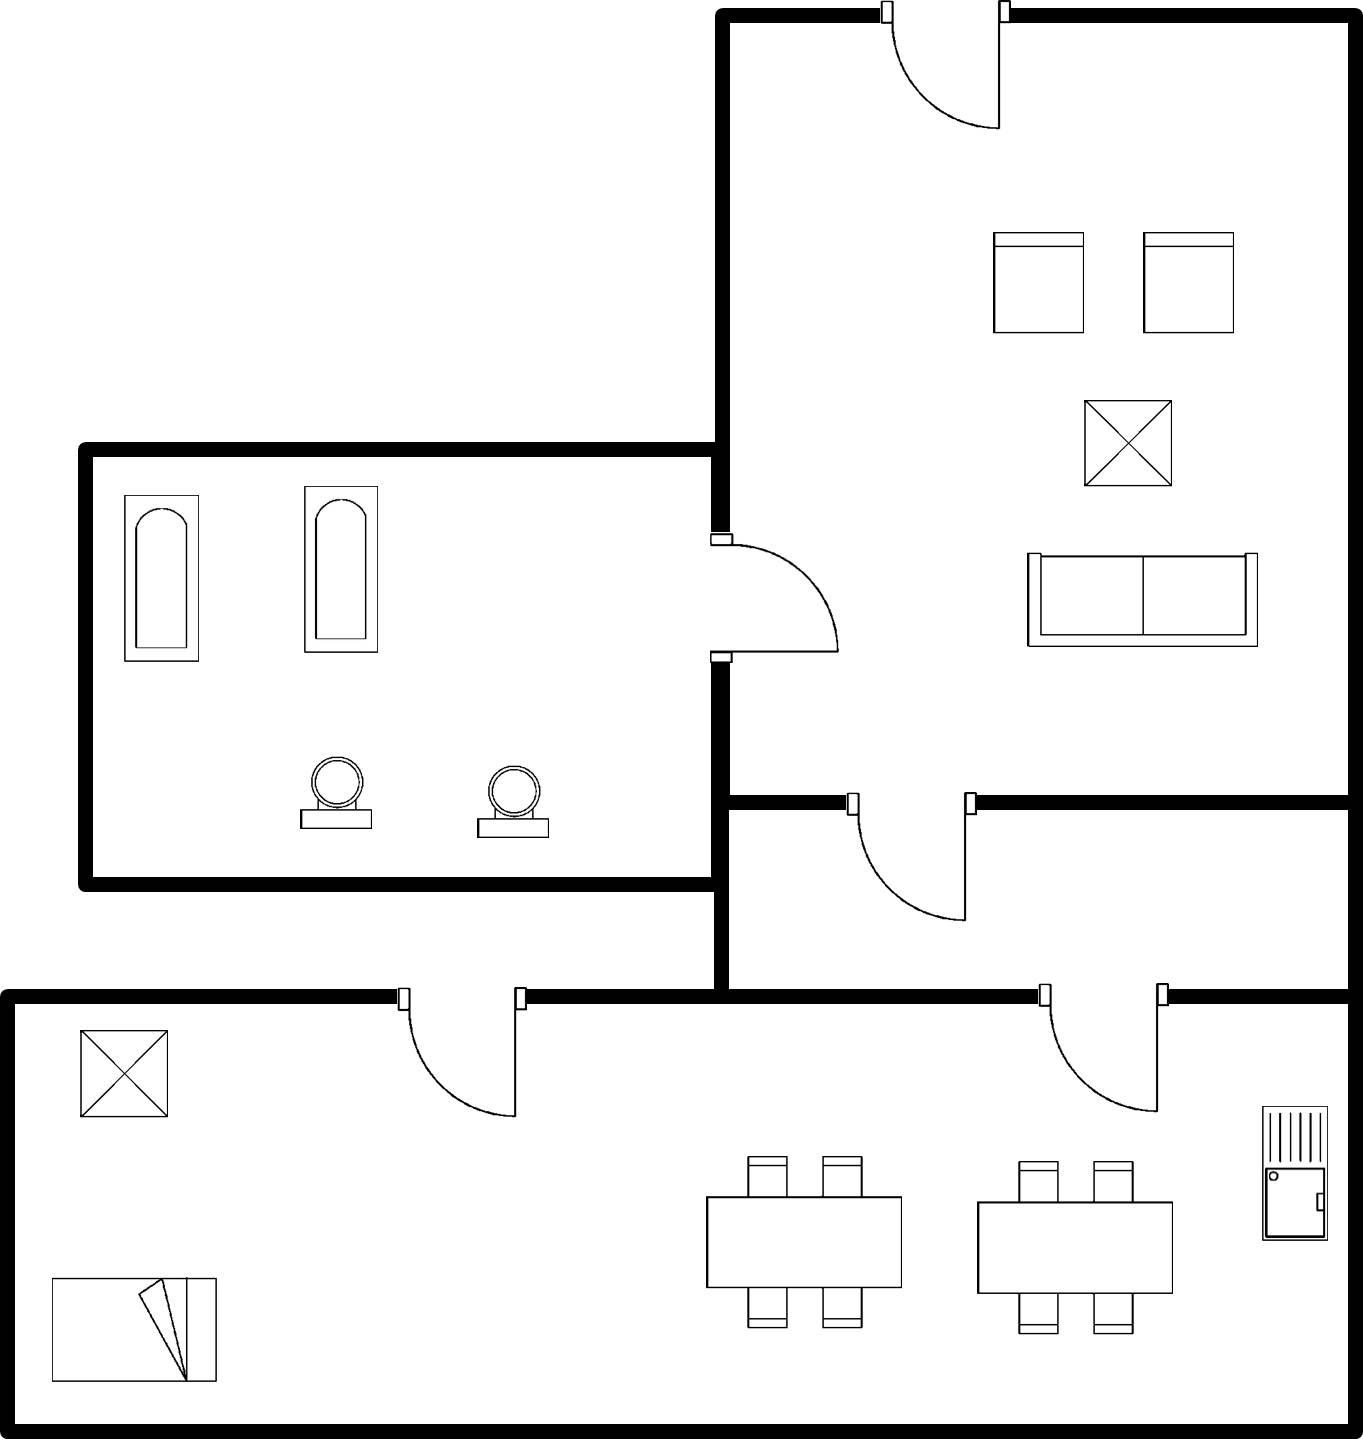bed: (40, 1266, 229, 1392)
dining_table: (692, 1139, 912, 1340), (959, 1149, 1186, 1343)
sink: (1246, 1094, 1339, 1254)
sofa: (1013, 539, 1268, 660)
toilet: (288, 746, 386, 841), (468, 750, 555, 846)
tub: (110, 484, 209, 673), (292, 477, 386, 664)
